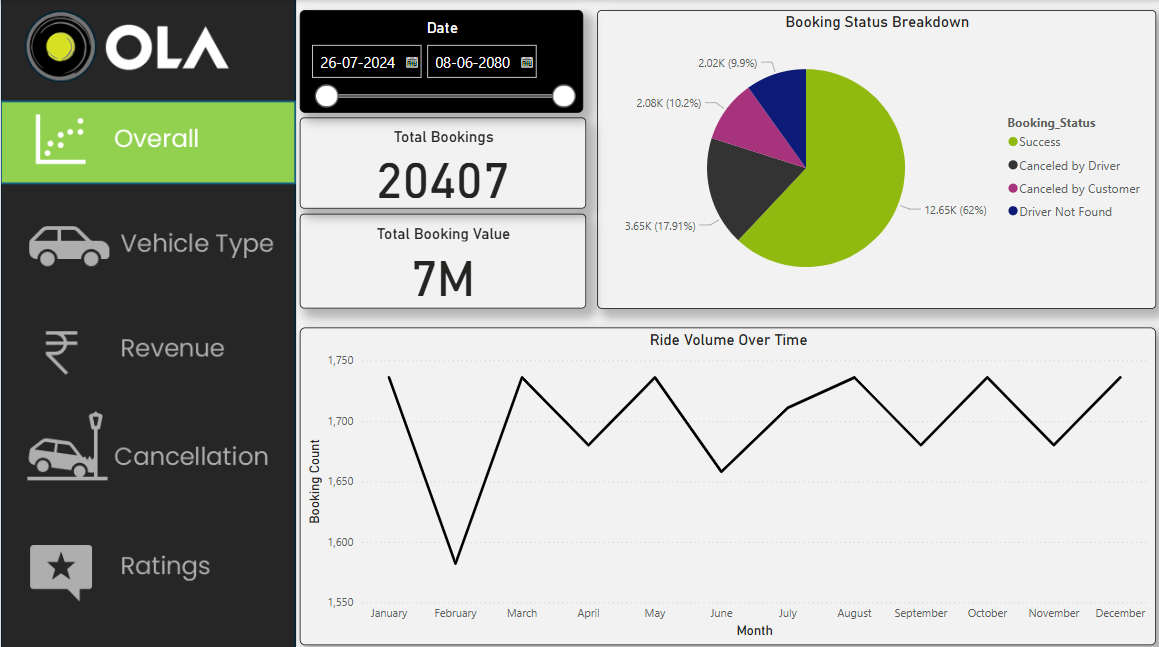

What the dashboard file says about the page in this screenshot:
{"tool":"powerbi","page":{"name":"Overall","canvas":[1280,720],"ordinal":0},"visuals":[{"type":"actionButton","box":[0,220.8,324.5,91.7],"z":0},{"type":"actionButton","box":[0,339,324.5,91.7],"z":1000},{"type":"actionButton","box":[0,454.8,324.5,91.7],"z":2000},{"type":"actionButton","box":[0,581.5,324.5,91.7],"z":3000},{"type":"actionButton","box":[1.2,112.2,324.5,91.7],"z":4000},{"type":"lineChart","title":"Ride Volume Over Time","fields":{"Y":["CountNonNull(Bookings.Booking_ID)"],"Category":["Bookings.Date.Variation.Date Hierarchy.Month"]},"box":[328,359.5,940,348.5],"z":5000},{"type":"pieChart","title":"Booking Status Breakdown","fields":{"Category":["Bookings.Booking_Status"],"Y":["CountNonNull(Bookings.Booking_Status)"]},"box":[654.5,11,613.4,328],"z":6000},{"type":"slicer","title":"Date","fields":{"Values":["Bookings.Date"]},"box":[328,11,311.5,112.5],"z":7000},{"type":"card","title":"Total Bookings","fields":{"Values":["Count(Bookings.Booking_ID)"]},"box":[328,129,314.2,100.2],"z":8000},{"type":"card","title":"Total Booking Value","fields":{"Values":["Sum(Bookings.Booking_Value)"]},"box":[328,234.6,314.2,104.3],"z":9000}]}

Visuals, with their boxes in screenshot pixels (x1, y1, x2, y2), scaled from the page's 1280x720 canvas onto the 1159x647 screenshot:
actionButton: (x1=0, y1=198, x2=294, y2=281)
actionButton: (x1=0, y1=305, x2=294, y2=387)
actionButton: (x1=0, y1=409, x2=294, y2=491)
actionButton: (x1=0, y1=523, x2=294, y2=605)
actionButton: (x1=1, y1=101, x2=295, y2=183)
"Ride Volume Over Time" lineChart: (x1=297, y1=323, x2=1148, y2=636)
"Booking Status Breakdown" pieChart: (x1=593, y1=10, x2=1148, y2=305)
"Date" slicer: (x1=297, y1=10, x2=579, y2=111)
"Total Bookings" card: (x1=297, y1=116, x2=581, y2=206)
"Total Booking Value" card: (x1=297, y1=211, x2=581, y2=305)
